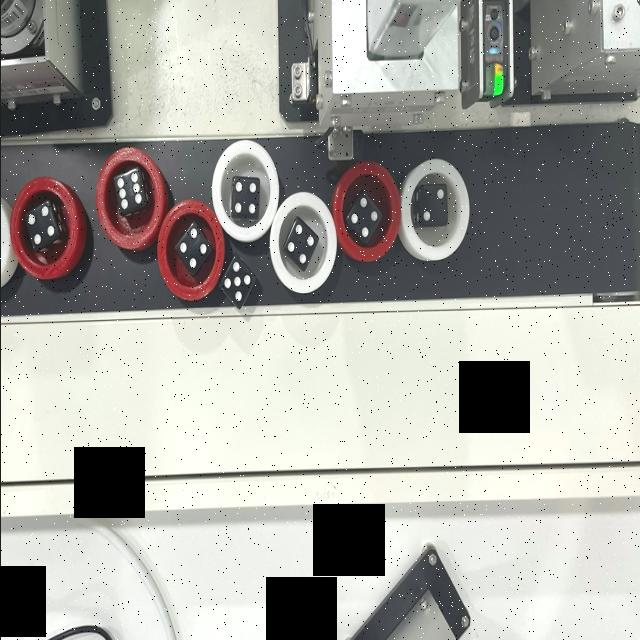DICE2: (417, 182, 447, 226)
DICE4: (284, 220, 318, 267), (179, 222, 206, 272), (348, 194, 378, 238), (26, 202, 54, 243), (232, 179, 256, 215)
DICE5: (220, 262, 252, 304)
DICE6: (115, 171, 142, 212)
RedChip: (8, 178, 76, 280), (156, 198, 222, 302), (96, 146, 162, 247), (334, 162, 398, 261)
WhiteChip: (398, 159, 470, 265), (268, 191, 336, 293), (211, 140, 277, 244), (0, 189, 7, 293)
